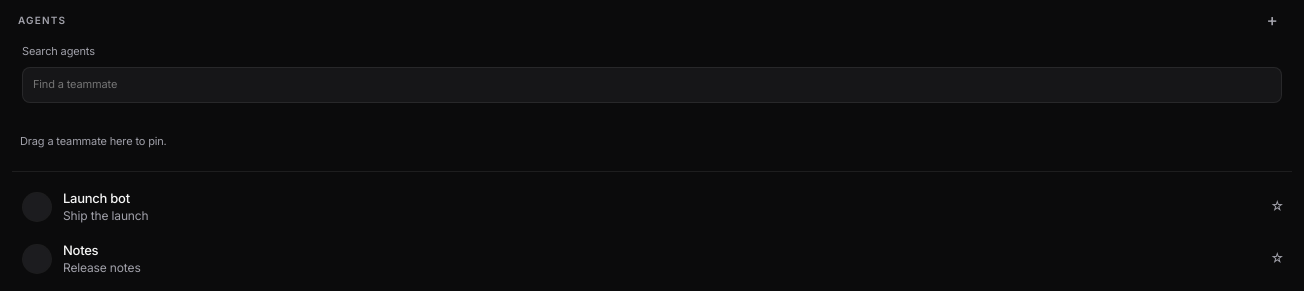
Test: matches a brief and shows empty-match copy when nothing remains
Type "release" into the field labelled "Search agents".
click(652, 85); type("release")  # box x1=22 y1=67 x2=1282 y2=103
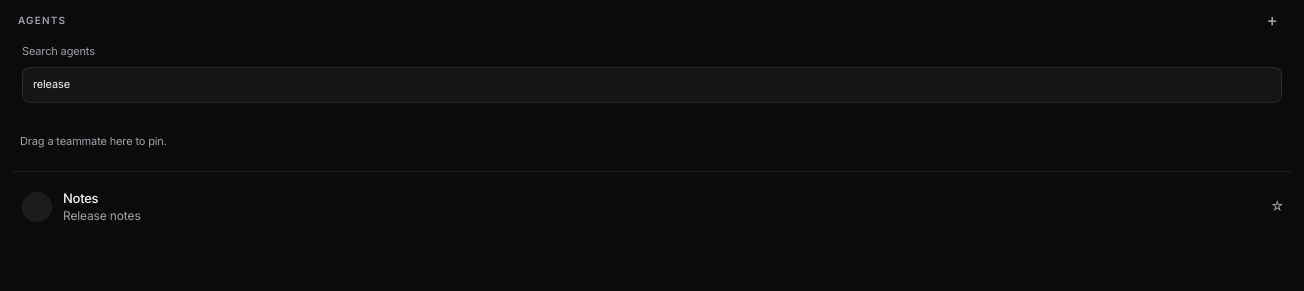
Check: the button titled "Notes" is shown, box x1=12 y1=181 x2=1260 y2=233
Replace the text in the field labelled "Search agents" with "xyzzy" at [652, 85], box x1=22 y1=67 x2=1282 y2=103
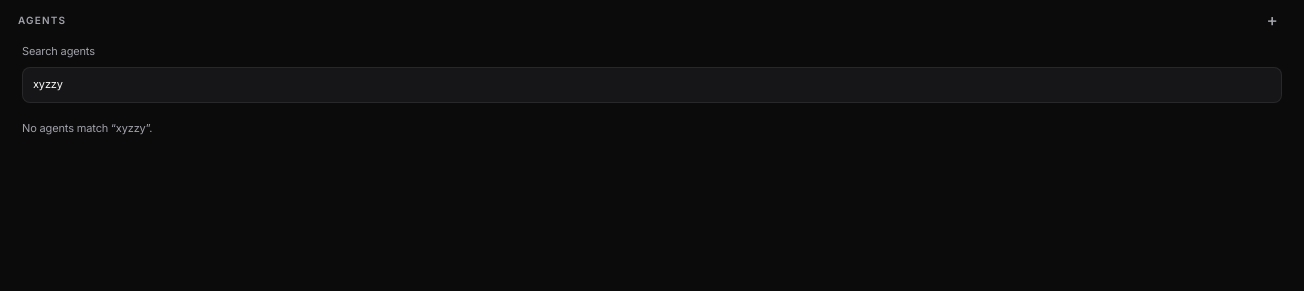
Check: the text "No agents match “xyzzy”." is shown, box x1=22 y1=121 x2=152 y2=135
